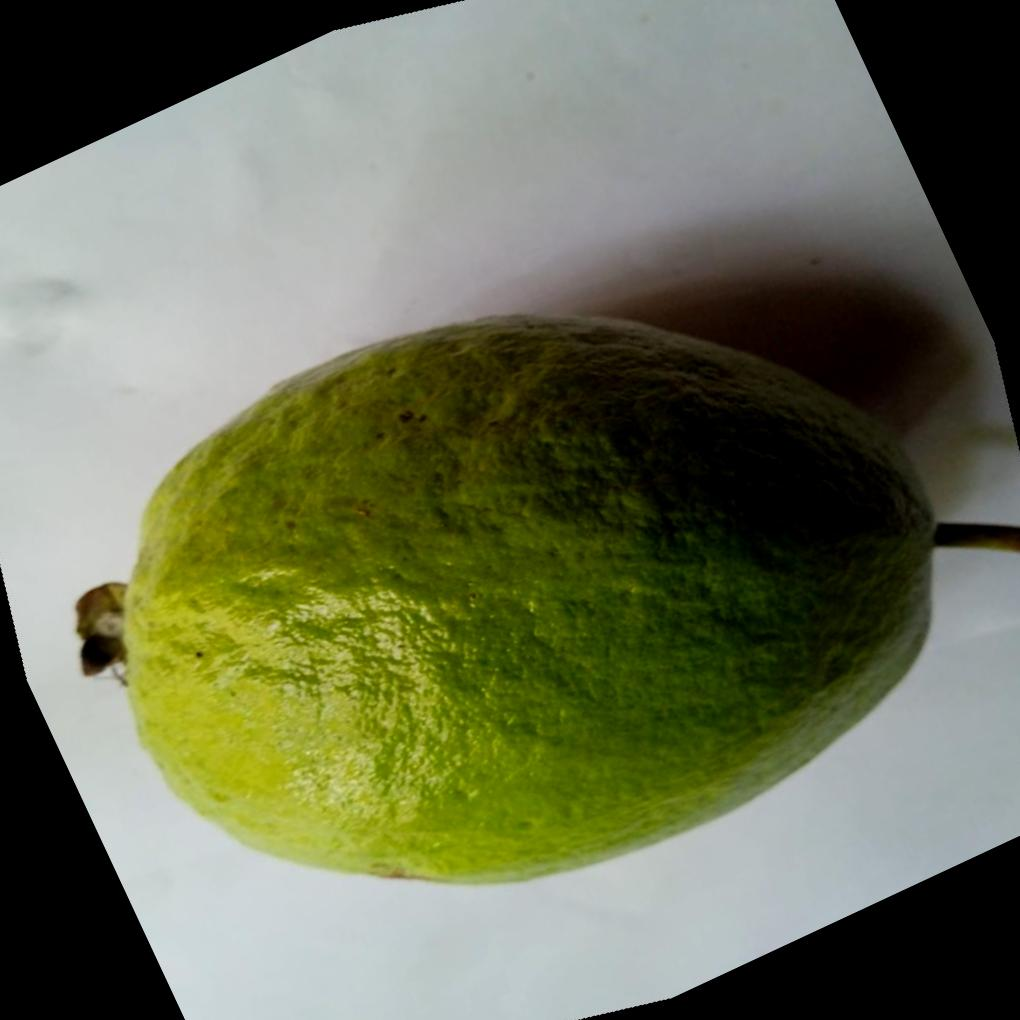FreshGuava: (119, 314, 942, 890)
